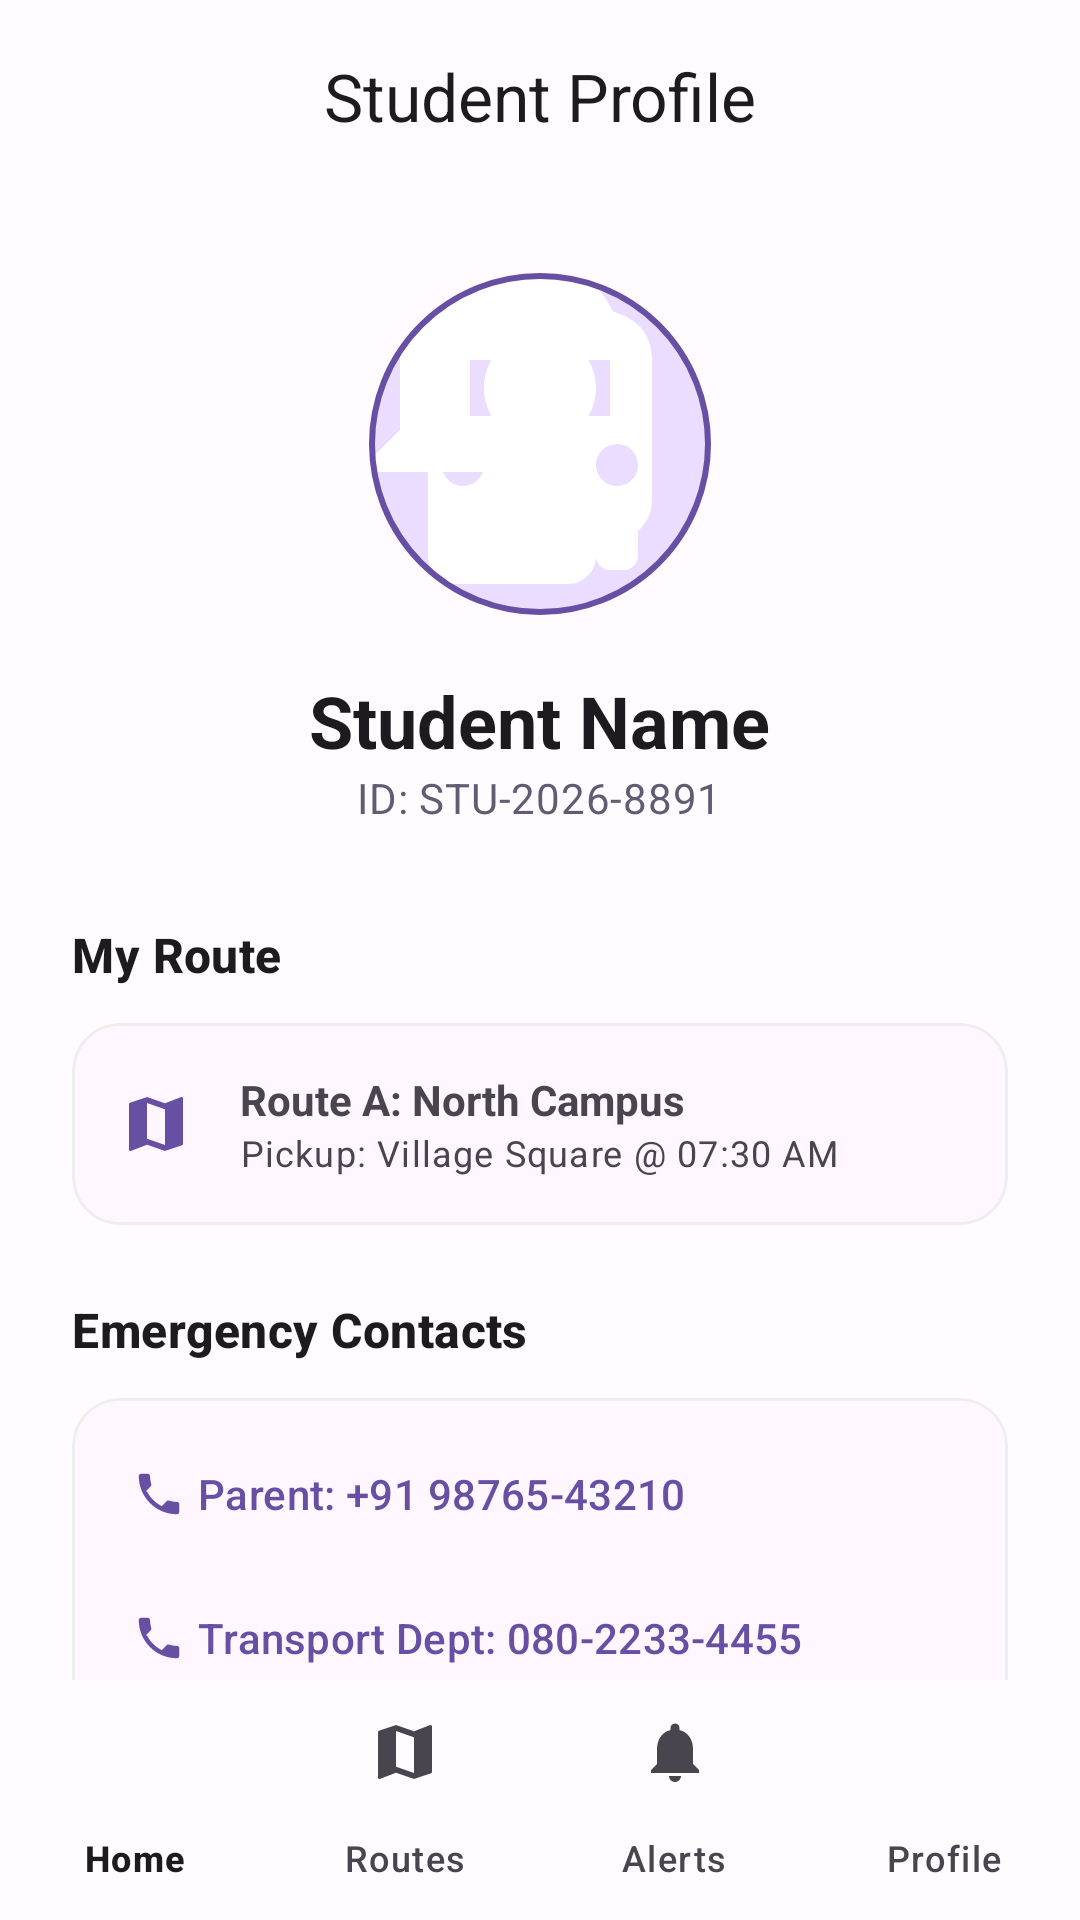

Icon bounding boxes for this 1080px x 1920px phone screenshot, format (x1, y1, x2, y2):
map: (129, 1097, 183, 1151)
